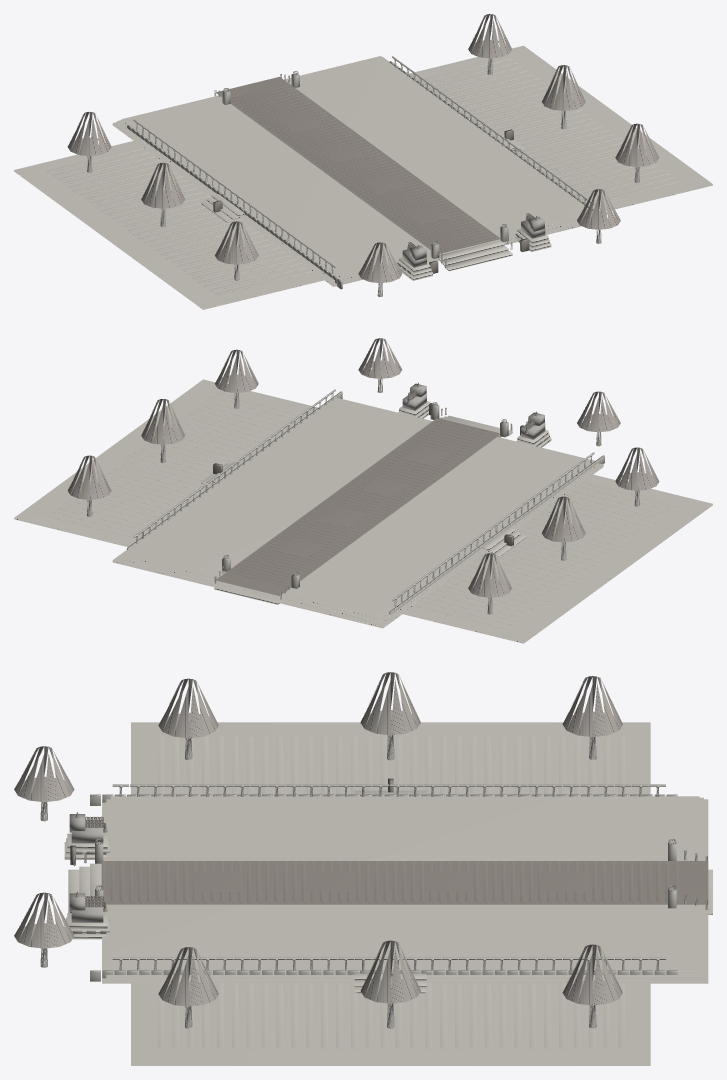
The picture shows the model from 3 angles, top to bottom: view 1: azimuth 30°, elevation 25°; view 2: azimuth 150°, elevation 25°; view 3: azimuth 270°, elevation 25°; orthographic projection. The views are drawn at different scales.
Visible parts, largest first — view 1: woldae_granite_platform_and_stairs, woldae_plaza_ground, woldae_royal_eodo_path, woldae_trees_and_guideposts, woldae_granite_balustrades, woldae_haetae_sculptures_pair; view 2: woldae_granite_platform_and_stairs, woldae_plaza_ground, woldae_royal_eodo_path, woldae_trees_and_guideposts, woldae_granite_balustrades, woldae_haetae_sculptures_pair; view 3: woldae_granite_platform_and_stairs, woldae_plaza_ground, woldae_royal_eodo_path, woldae_trees_and_guideposts, woldae_granite_balustrades, woldae_haetae_sculptures_pair.
Boxes of the visible parts, x1,y1,x2,y2 form: woldae_granite_platform_and_stairs: (112, 56, 593, 289); woldae_plaza_ground: (14, 45, 712, 309); woldae_royal_eodo_path: (216, 76, 500, 253); woldae_trees_and_guideposts: (67, 14, 659, 296); woldae_granite_balustrades: (133, 56, 594, 273); woldae_haetae_sculptures_pair: (397, 213, 551, 280); woldae_granite_platform_and_stairs: (112, 391, 604, 628); woldae_plaza_ground: (14, 379, 712, 643); woldae_royal_eodo_path: (216, 418, 499, 595); woldae_trees_and_guideposts: (67, 338, 659, 614); woldae_granite_balustrades: (133, 389, 594, 606); woldae_haetae_sculptures_pair: (398, 382, 551, 447); woldae_granite_platform_and_stairs: (68, 790, 712, 993); woldae_plaza_ground: (131, 722, 650, 1065); woldae_royal_eodo_path: (101, 861, 708, 904); woldae_trees_and_guideposts: (14, 672, 622, 1028); woldae_granite_balustrades: (95, 784, 676, 970); woldae_haetae_sculptures_pair: (64, 812, 109, 939).
Bounding box in the file's own units: 56 × 6.5 × 48.43.
Materials: 5 (5 with a texture image).
